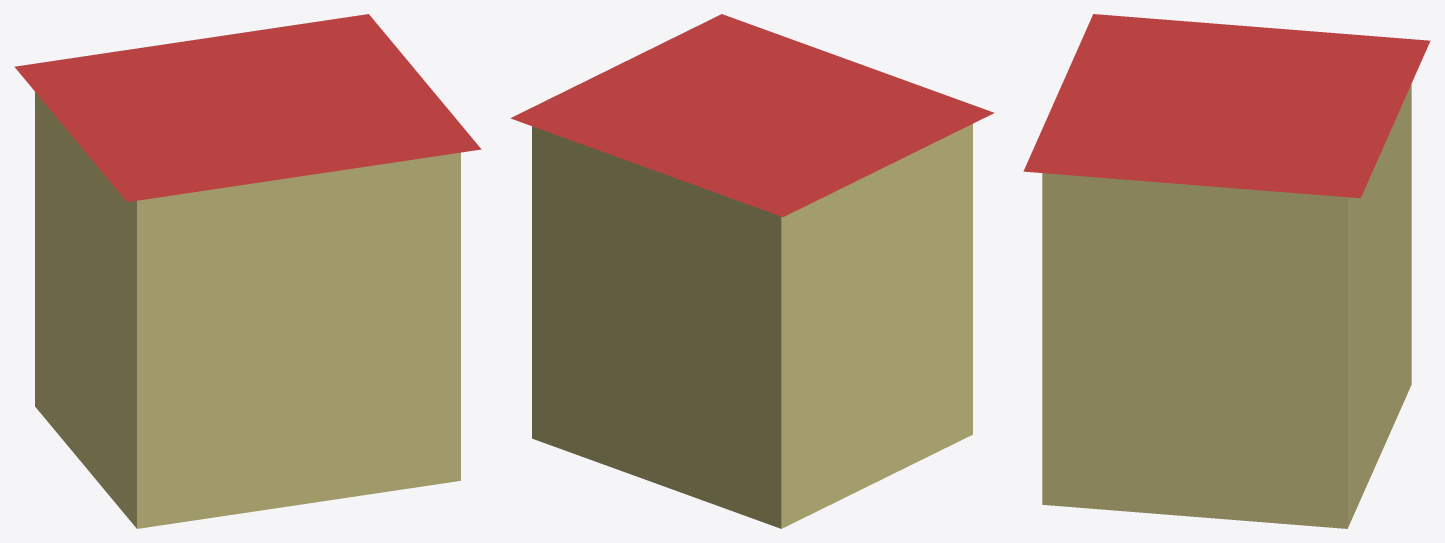
The picture shows the model from 3 angles, left to right: view 1: azimuth 30°, elevation 25°; view 2: azimuth 150°, elevation 25°; view 3: azimuth 270°, elevation 25°; orthographic projection. The views are drawn at different scales.
Parts seen in each view (by area): view 1: group_5, group_3, group_4; view 2: group_5, group_3, group_4; view 3: group_5, group_3, group_4.
Boxes of the visible parts, x1,y1,x2,y2 form: group_5: (35,92,460,528); group_3: (14,14,481,202); group_4: (16,14,480,201); group_5: (532,124,972,528); group_3: (510,14,993,216); group_4: (513,14,992,216); group_5: (1042,84,1411,528); group_3: (1024,14,1429,198); group_4: (1023,14,1429,197).
Size of the model in its own units: 13.34 by 12.46 by 11.43.
